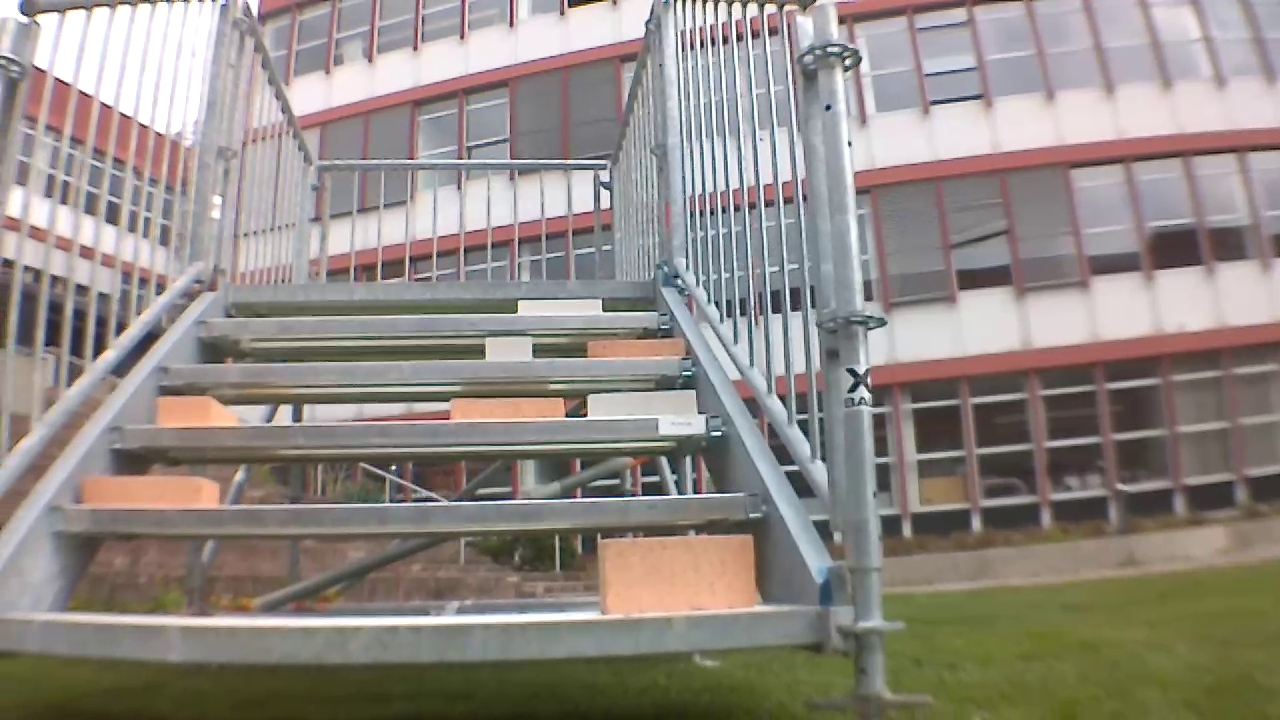brick: (589, 525, 761, 623), (75, 474, 231, 508), (583, 391, 696, 421), (444, 397, 565, 422), (159, 392, 234, 428), (580, 335, 685, 359), (514, 302, 608, 317), (485, 336, 534, 360)
edge: (0, 602, 825, 664), (104, 408, 727, 467), (47, 492, 767, 531), (194, 309, 681, 338), (155, 356, 701, 380), (220, 279, 657, 302)
stairs: (0, 0, 874, 715)
steps: (0, 278, 856, 663)
